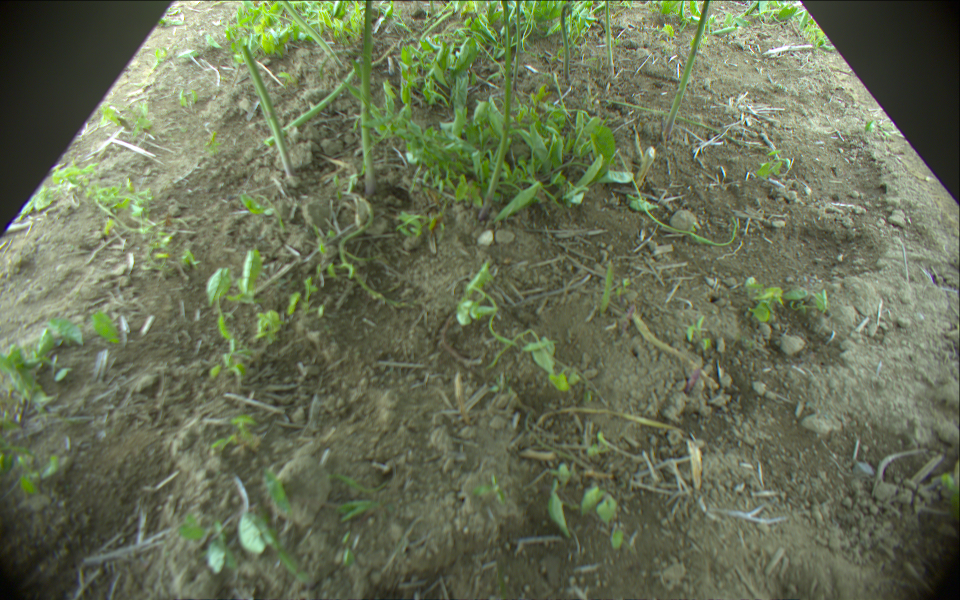aspa: (264, 11, 394, 147), (239, 43, 297, 183), (477, 1, 512, 221), (663, 1, 715, 135), (280, 1, 345, 67), (360, 1, 378, 195), (557, 1, 572, 85), (603, 1, 618, 78), (512, 1, 523, 88)
